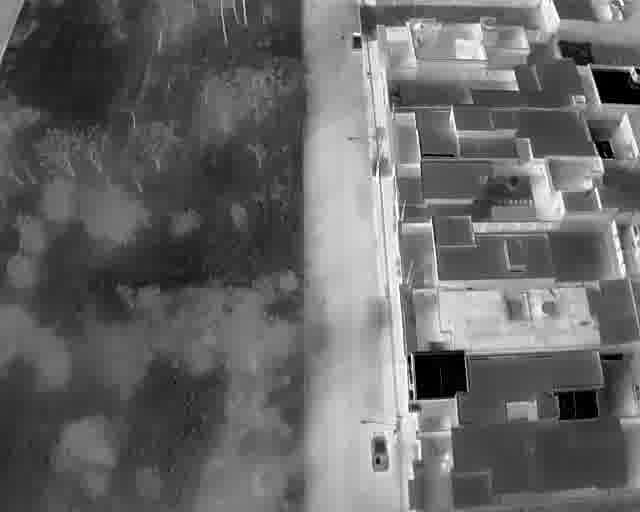car: (370, 434, 389, 472), (351, 31, 363, 51)
